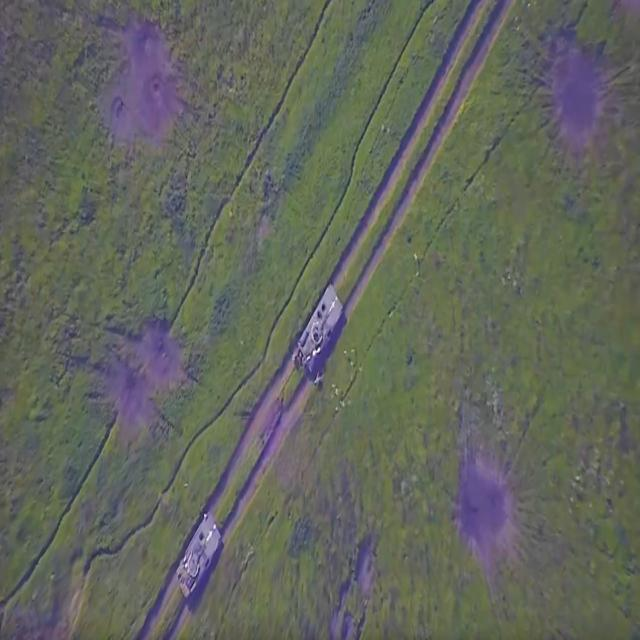AIFV: (293, 283, 347, 382), (177, 509, 225, 609)
